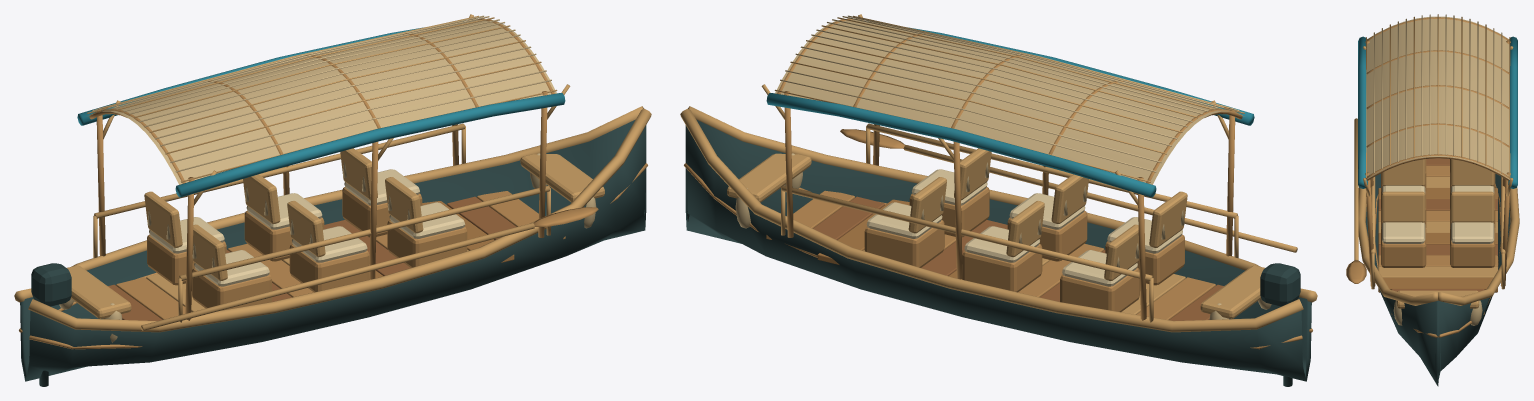
Rendered from CanalShikara.glb.
3 views of the same model, side by side, from view 1: azimuth 30°, elevation 25°; view 2: azimuth 150°, elevation 25°; view 3: azimuth 270°, elevation 25° (orthographic). The views are drawn at different scales.
Parts seen in each view (by area): view 1: CanalShikara_Geometry; view 2: CanalShikara_Geometry; view 3: CanalShikara_Geometry.
Boxes of the visible parts, box(x1,y1,x2,y2) form: CanalShikara_Geometry: box(14, 14, 651, 386); CanalShikara_Geometry: box(680, 14, 1317, 386); CanalShikara_Geometry: box(1346, 14, 1519, 386).
Size of the model in its own units: 8.34 by 3.19 by 2.61.
